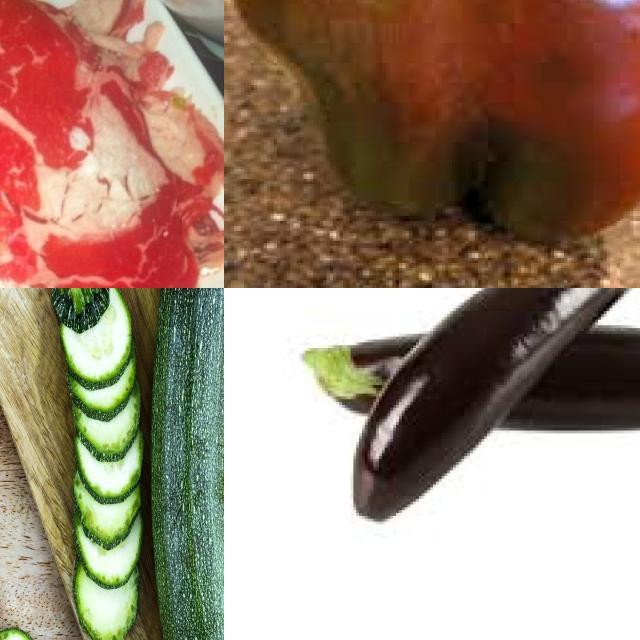bell_pepper: (225, 1, 640, 264)
eggplant: (348, 289, 640, 519), (300, 320, 640, 431)
zucchini: (145, 289, 225, 640)
